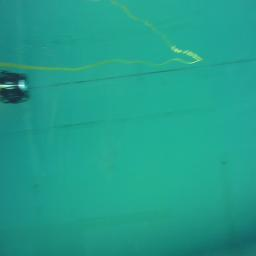Full: (0, 71, 29, 104)
